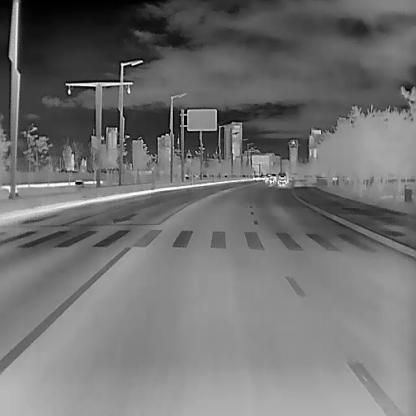car: (278, 174, 286, 185), (265, 173, 272, 185), (271, 173, 276, 183)
